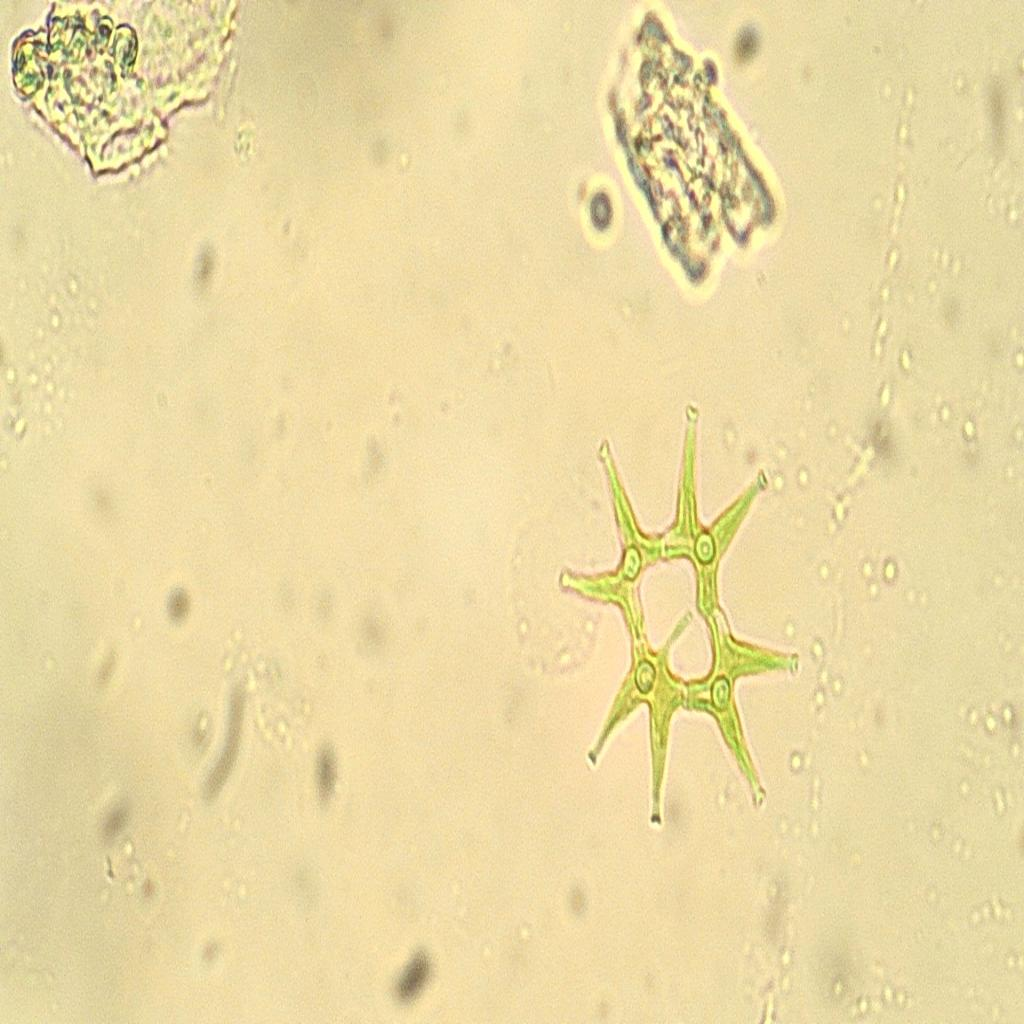Pediastrum_75FO: (545, 380, 820, 849)
